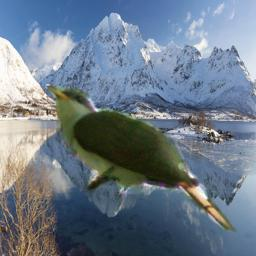Cuckoo: (42, 84, 237, 233)
